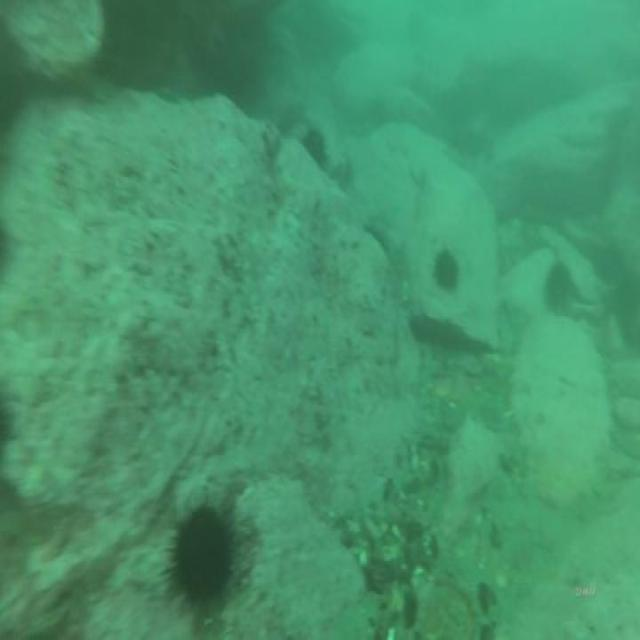echinus: (162, 488, 242, 623), (540, 256, 572, 319), (298, 123, 329, 177), (431, 243, 462, 294), (592, 240, 623, 284)
